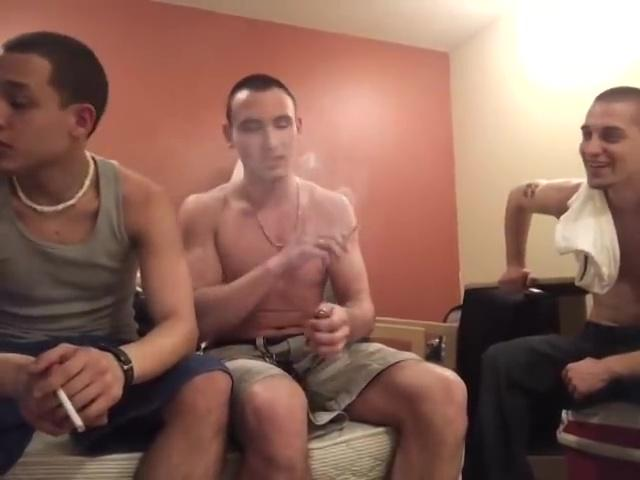cigarette: (54, 390, 89, 435), (337, 224, 361, 243)
